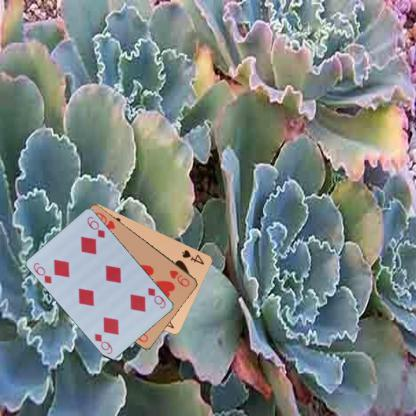4s: (180, 247, 206, 266)
6d: (145, 285, 168, 310), (30, 260, 53, 285)
9h: (167, 268, 191, 288)
